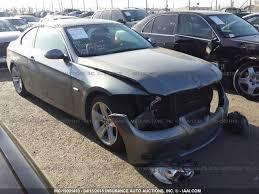bonnet-dent: (115, 53, 215, 92)
front-bumper-dent: (125, 115, 214, 157)
